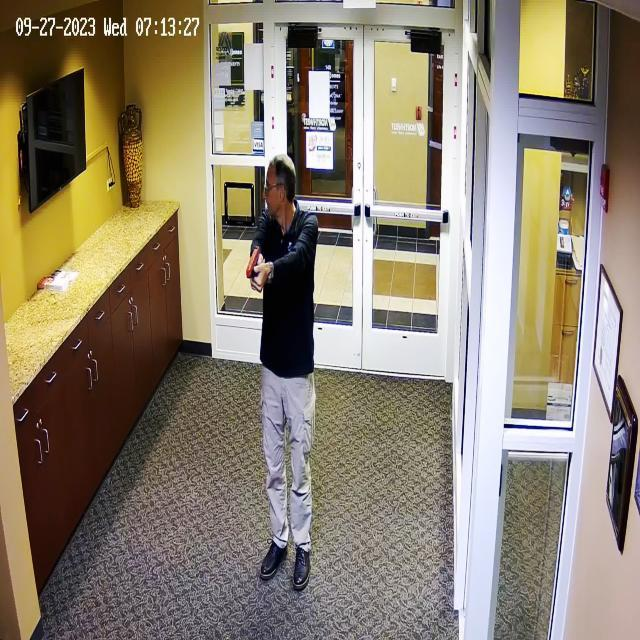Gun: (238, 242, 278, 289)
